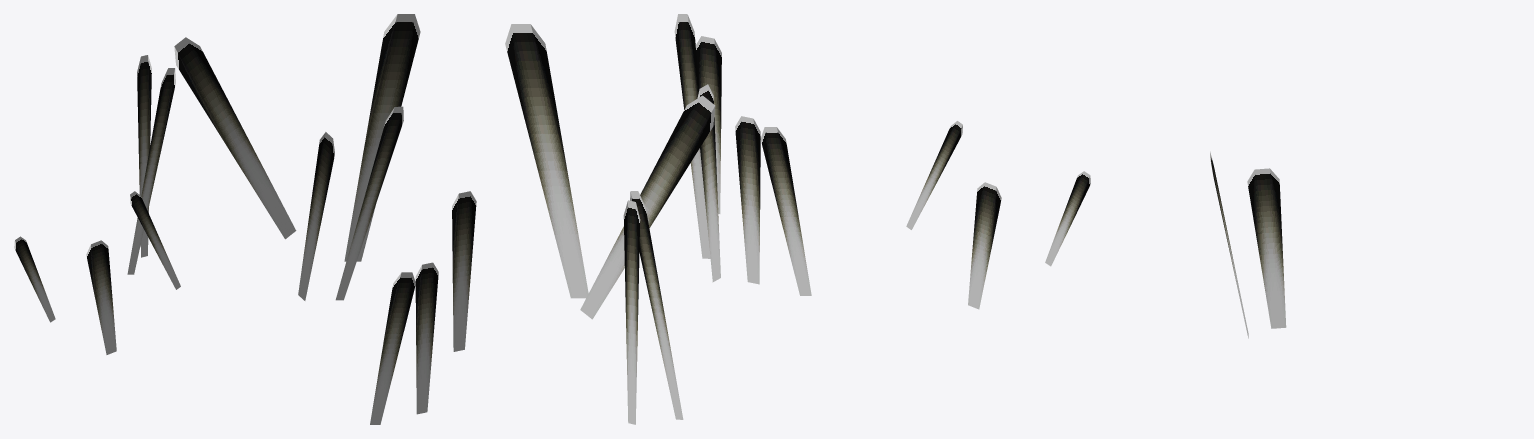
File: stg110_MotSpotEa_10.obj
3 renders of one model, left to right at view 1: azimuth 30°, elevation 25°; view 2: azimuth 150°, elevation 25°; view 3: azimuth 270°, elevation 25°, orthographic. The views are drawn at different scales.
Parts seen in each view (by area): view 1: polygon8, polygon9, polygon6, polygon5, polygon11, polygon10, polygon2, polygon1, polygon4, polygon0, polygon3, polygon7; view 2: polygon9, polygon8, polygon11, polygon10, polygon0, polygon5, polygon1, polygon4, polygon2, polygon6, polygon3, polygon7; view 3: polygon2, polygon5.
Part boxes in pixels (bbox=[...]): polygon8: bbox=[174, 37, 296, 239]; polygon9: bbox=[344, 14, 420, 261]; polygon6: bbox=[452, 191, 476, 351]; polygon5: bbox=[335, 106, 403, 300]; polygon11: bbox=[370, 272, 415, 424]; polygon10: bbox=[415, 262, 438, 414]; polygon2: bbox=[298, 132, 334, 300]; polygon1: bbox=[127, 68, 175, 274]; polygon4: bbox=[86, 240, 116, 354]; polygon0: bbox=[137, 55, 151, 257]; polygon3: bbox=[130, 191, 180, 289]; polygon7: bbox=[14, 236, 55, 322]; polygon9: bbox=[505, 24, 588, 298]; polygon8: bbox=[580, 95, 715, 319]; polygon11: bbox=[760, 127, 811, 295]; polygon10: bbox=[735, 116, 760, 284]; polygon0: bbox=[623, 200, 640, 424]; polygon5: bbox=[674, 14, 710, 258]; polygon1: bbox=[630, 191, 683, 419]; polygon4: bbox=[968, 182, 1001, 309]; polygon2: bbox=[697, 84, 720, 282]; polygon6: bbox=[695, 36, 721, 213]; polygon3: bbox=[906, 121, 962, 229]; polygon7: bbox=[1045, 171, 1090, 266]; polygon2: bbox=[1247, 168, 1286, 328]; polygon5: bbox=[1210, 151, 1248, 338].
Bounding box in the file's own units: 2372 × 1442 × 1708.
